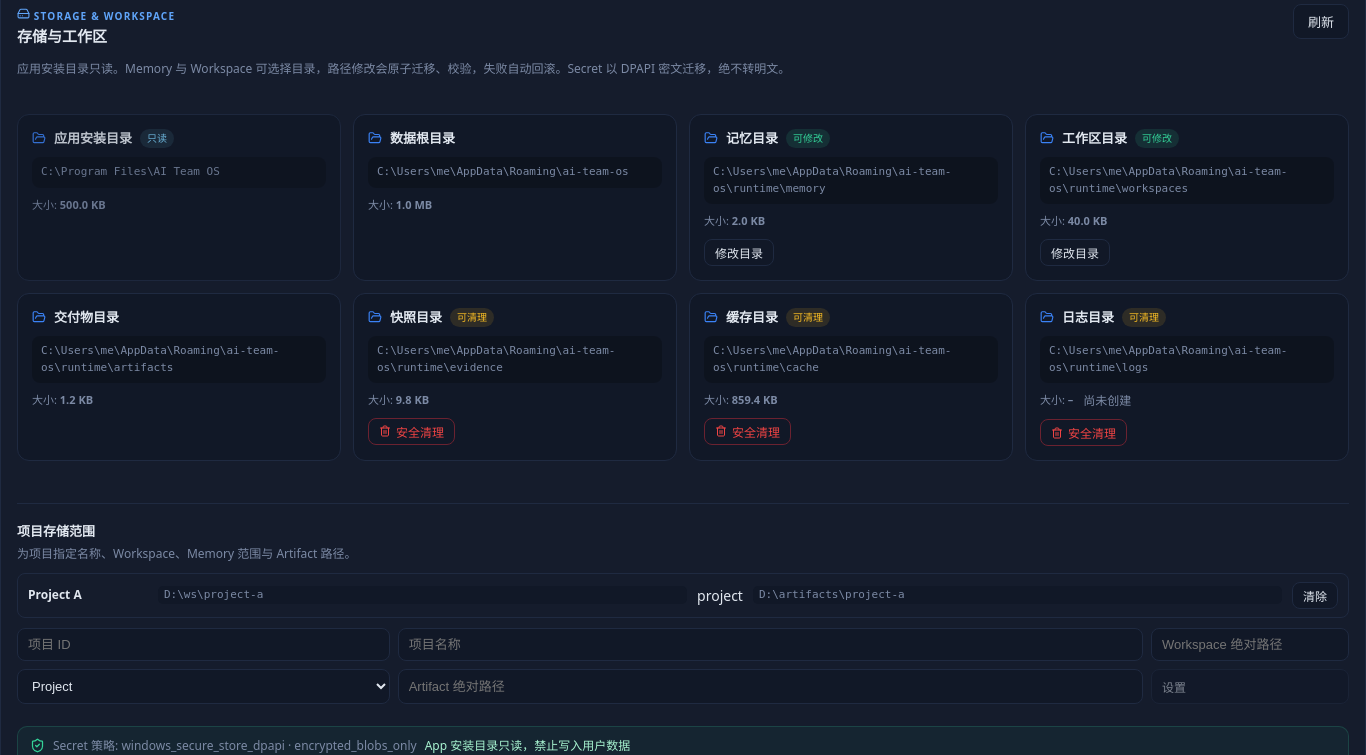
Test: StorageWorkspacePanel › migrates a user-selectable root through the API
Expected: the text "记忆目录" is shown, [726,128,778,148]
Click the button "修改目录" below "2.0 KB". click: (739, 252)
box: [704,238,774,266]
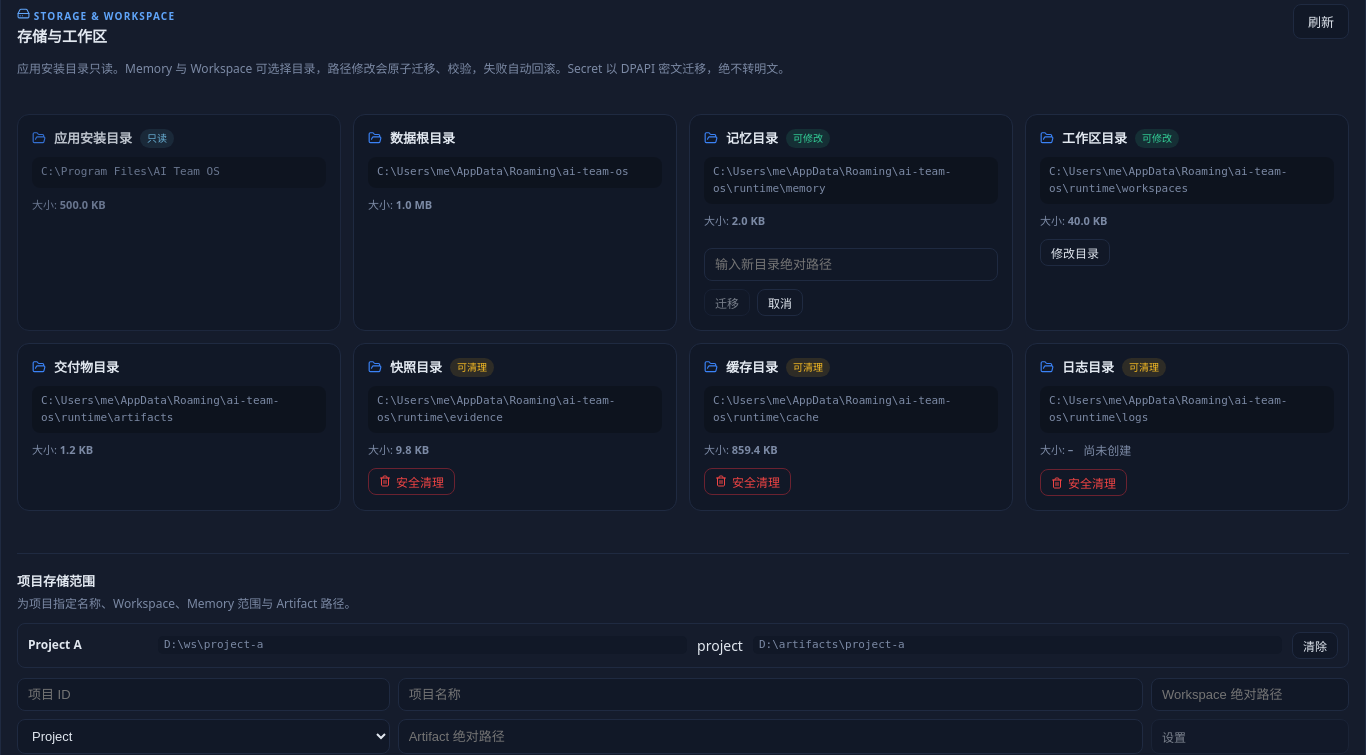
Type "D:\\memory-new" into the field named "记忆目录 新路径". click: (851, 264)
box: [704,248,998,280]
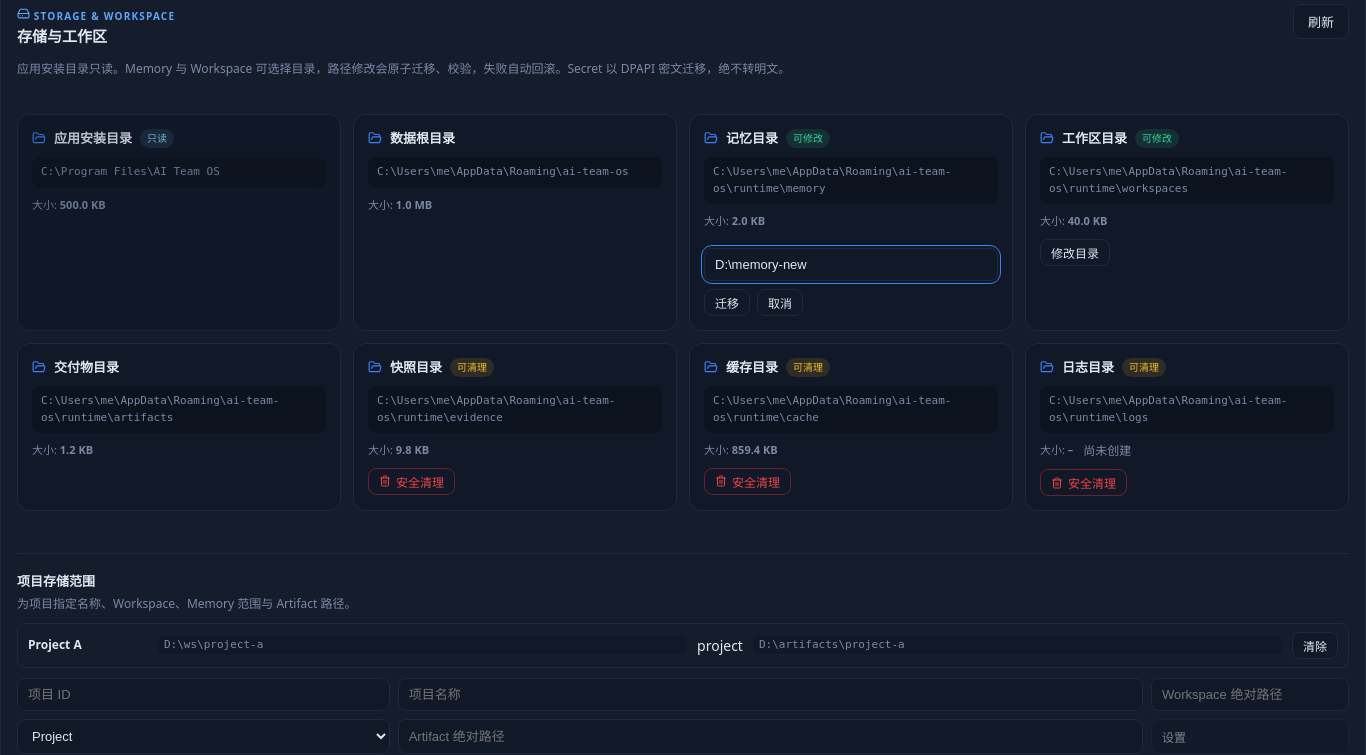
Click the button "迁移". click: (727, 302)
box: [704,288,750,316]
(page scrolled)
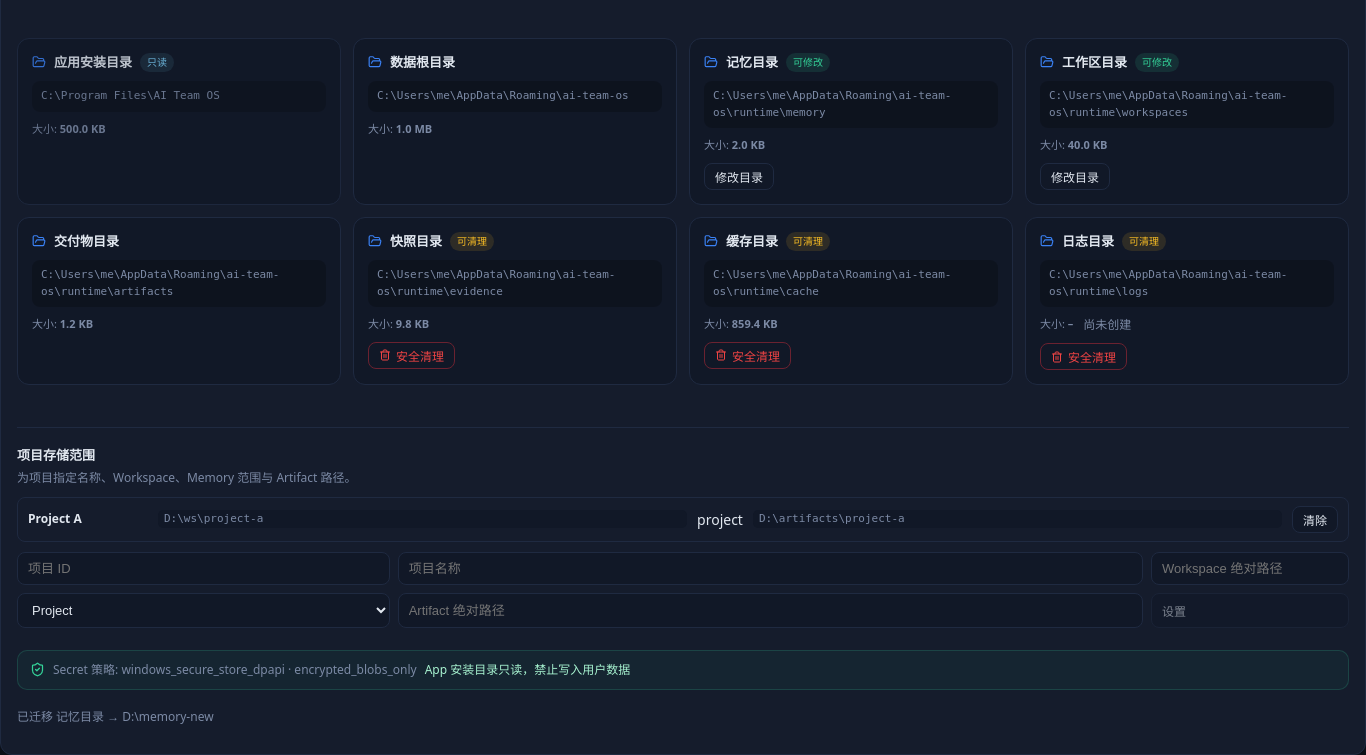
Now the text "已迁移 记忆目录 → D:\\memory-new" is shown, box [17,708,214,724]
